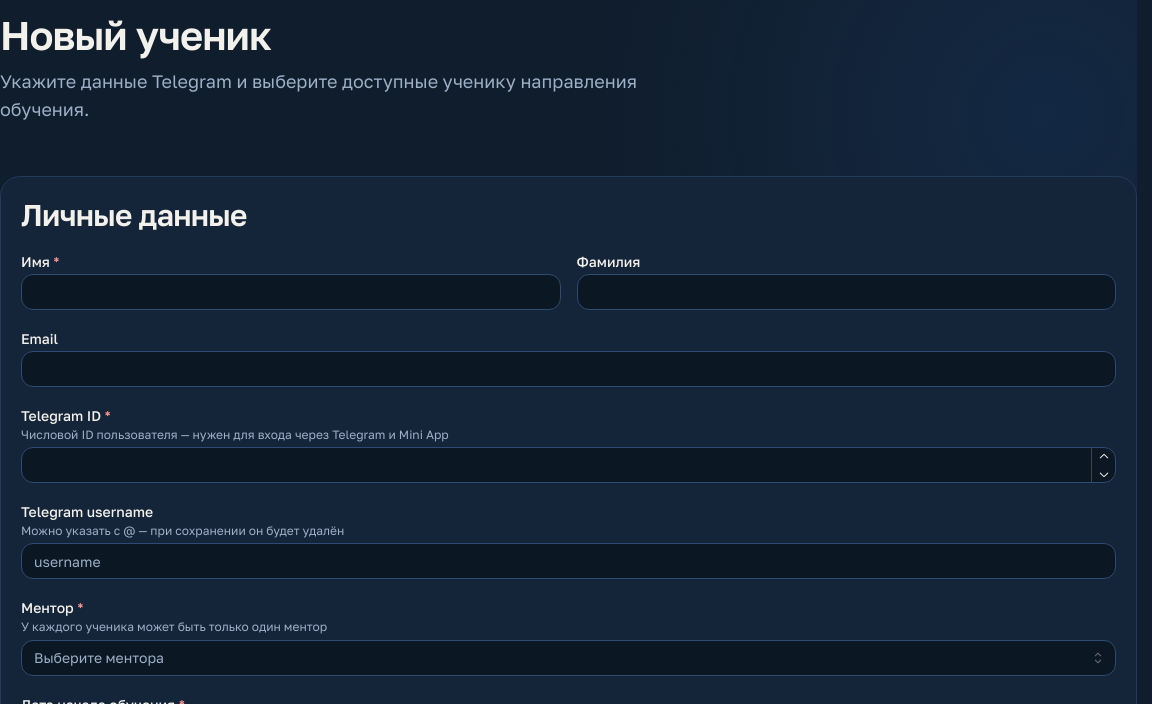
Test: не создаёт ученика без трека и подставляет условия Go
In the field labelled "Имя *": (291, 292) [21,274,560,310], type "Мария"
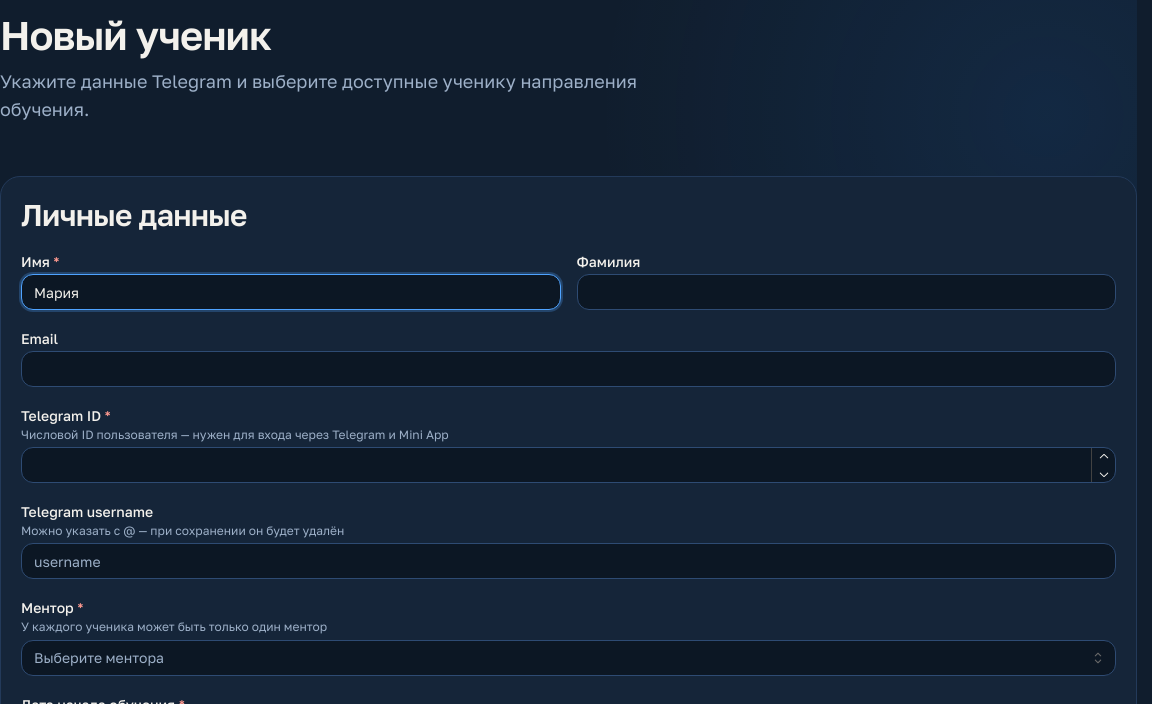
In the field labelled "Telegram ID *": (568, 465) [21,447,1116,483], type "777000111"
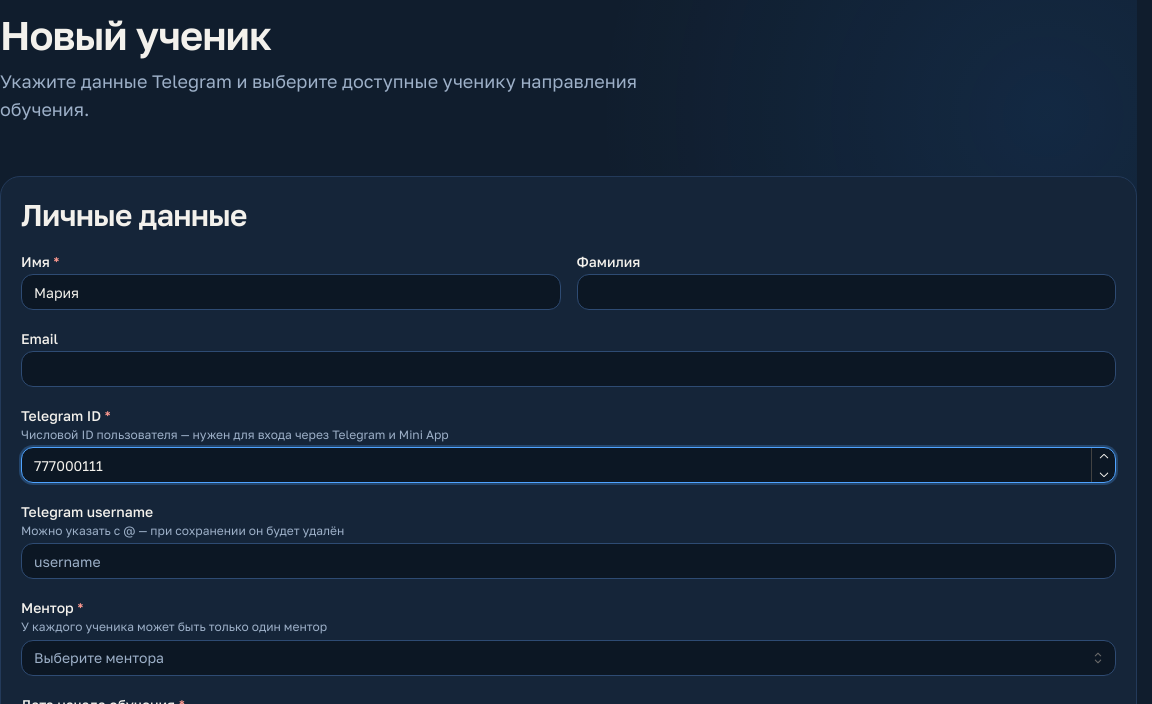
Click the field labelled "Ментор *": (568, 658) [21,640,1116,676]
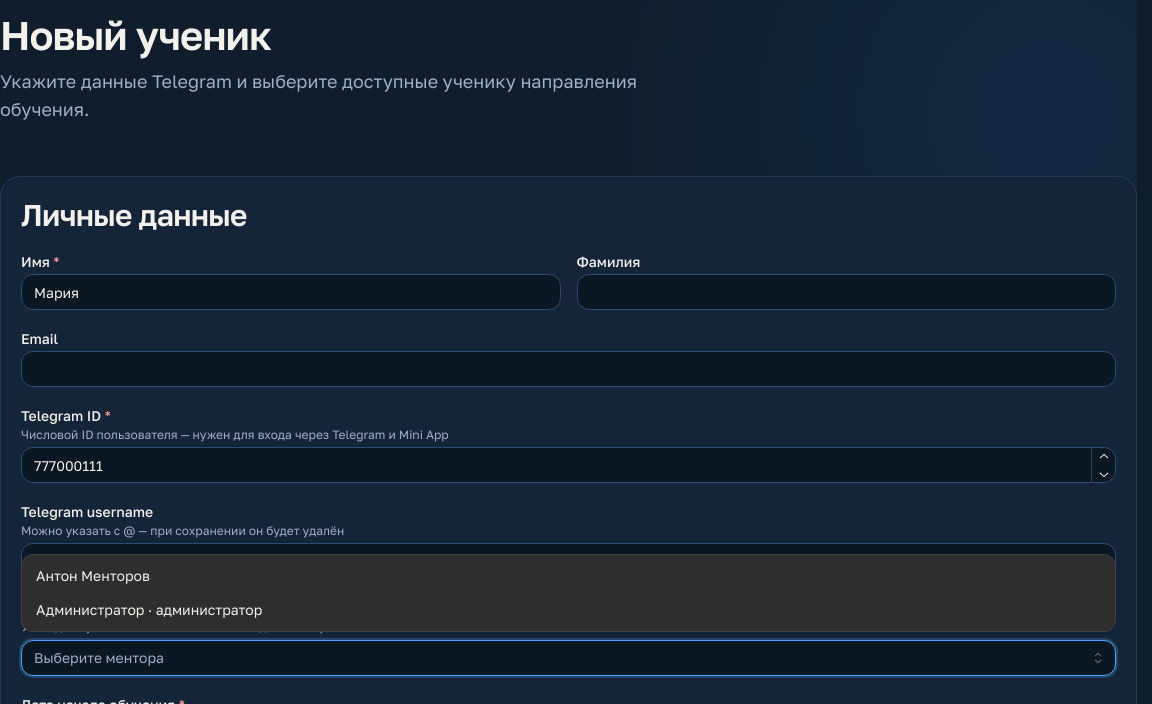
Click the option "Антон Менторов": (93, 576) [36,567,150,584]
(page scrolled)
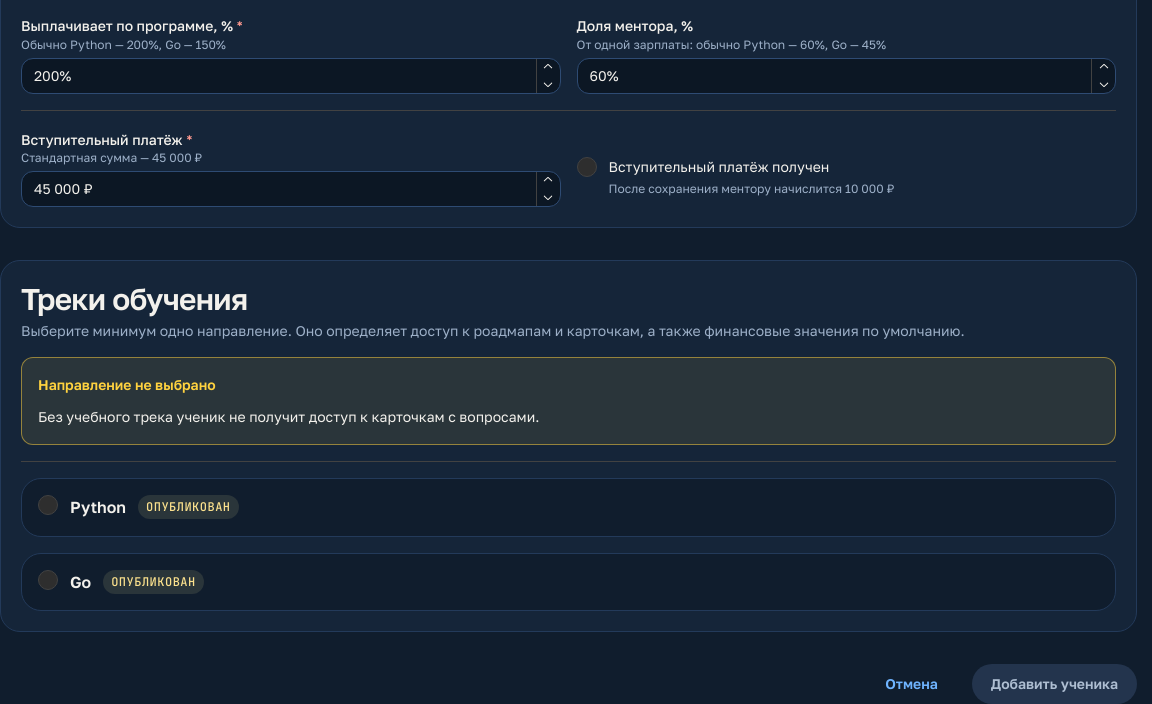
Expected: the button "Добавить ученика" is disabled, [972,664,1137,703]
Expected: the text "Направление не выбрано" is shown, [38,374,216,396]
Click the checkbox labelled "Go Опубликован": (48, 580) [38,570,58,590]
(page scrolled)
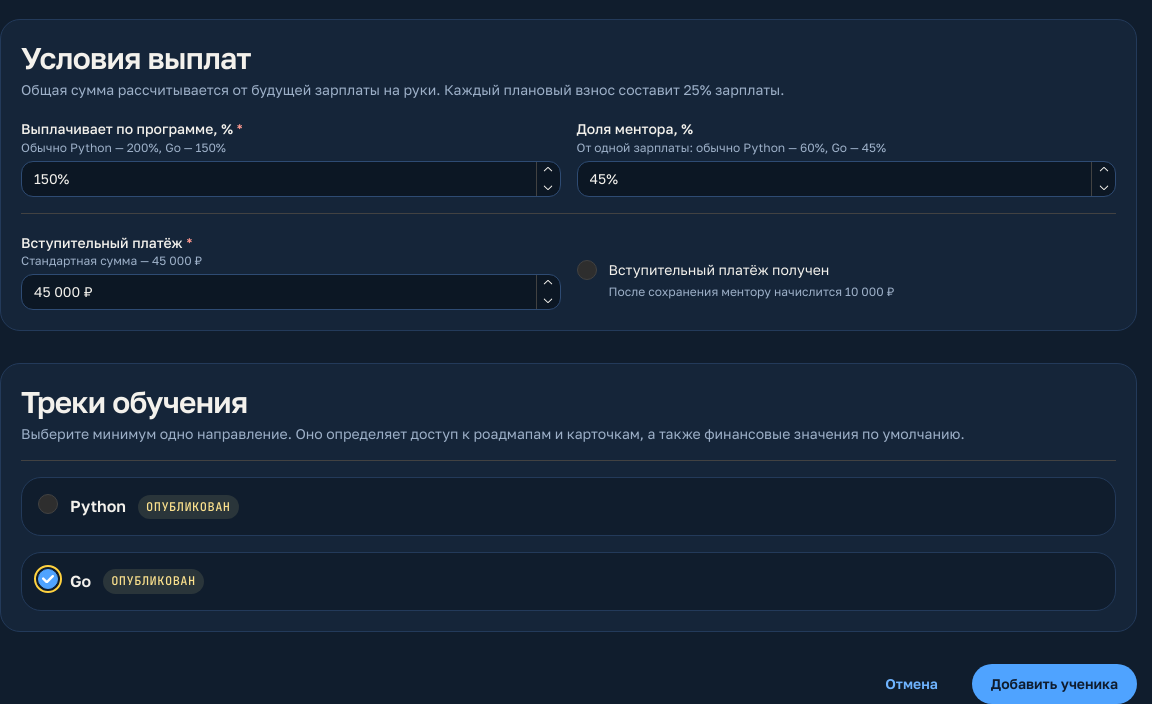
Now the field labelled "Выплачивает по программе, % *" holds "150%", box [21,161,560,197]
Now the field labelled "Доля ментора, %" holds "45%", box [576,161,1116,197]
Now the button "Добавить ученика" is enabled, box [972,664,1137,703]
